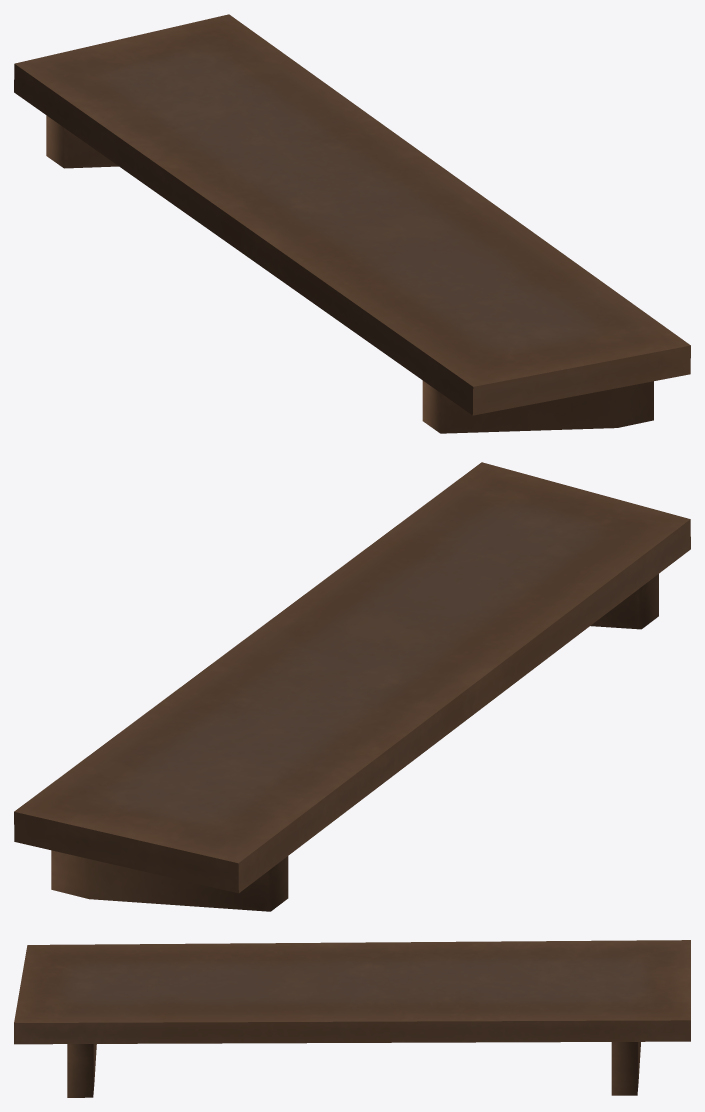
Rendered from SM_Handler.fbx.
3 views of the same model, one above another, from view 1: azimuth 30°, elevation 25°; view 2: azimuth 150°, elevation 25°; view 3: azimuth 270°, elevation 25° (orthographic). The views are drawn at different scales.
Parts seen in each view (by area): view 1: SM_Handler_LOD0; view 2: SM_Handler_LOD0; view 3: SM_Handler_LOD0.
Part boxes in pixels (<box>): SM_Handler_LOD0: <box>14,14,690,433</box>; SM_Handler_LOD0: <box>14,462,690,911</box>; SM_Handler_LOD0: <box>14,940,690,1097</box>.
Size of the model in its own units: 36.03 by 128 by 16.13.
Materials: 1 (1 with a texture image).
